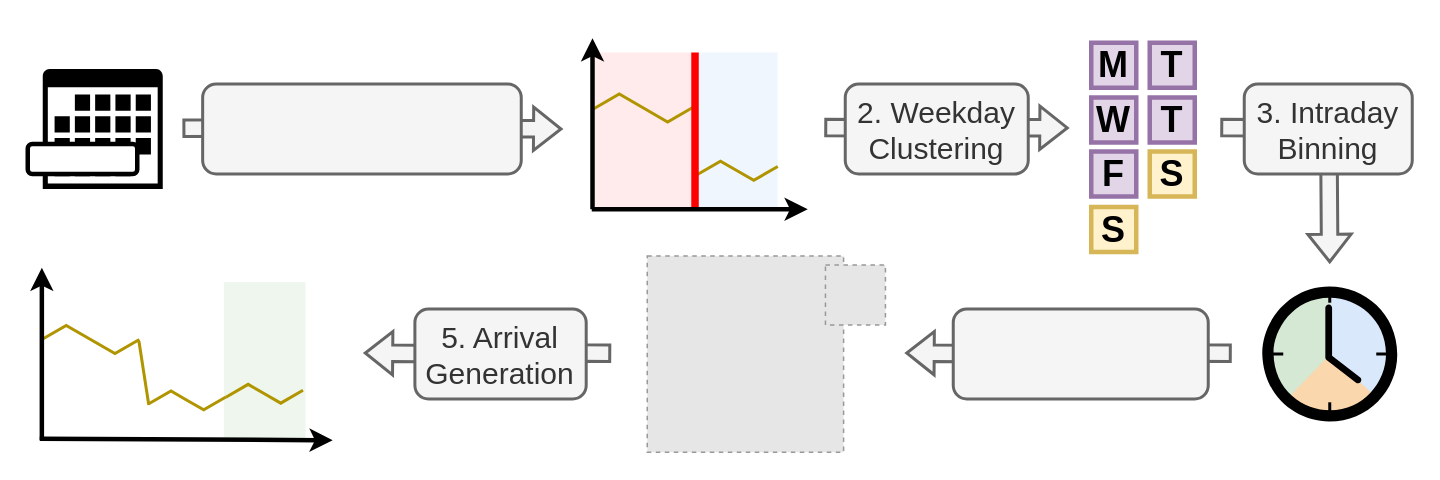
Some shapes in this 1440 by 480 pixel diagram are drawn without their labels. Grey dashed boxes stand in for pictures. Here are the shapes that lost their labels. From the top down, the centre of each, then its label:
At (361,128): "1. Global Segmenting & Clustering".
At (82,158): "ARRIVALS".
At (1080,353): "4. Inter-arrival Learning via KDE".
